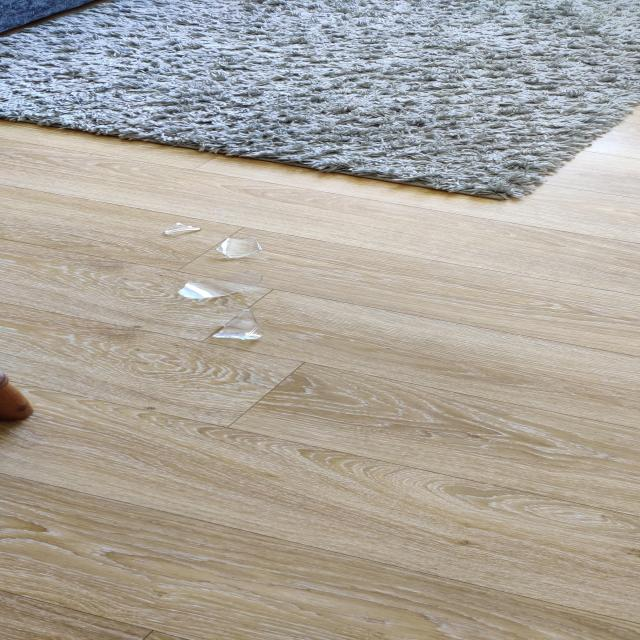litter: (101, 204, 364, 361)
